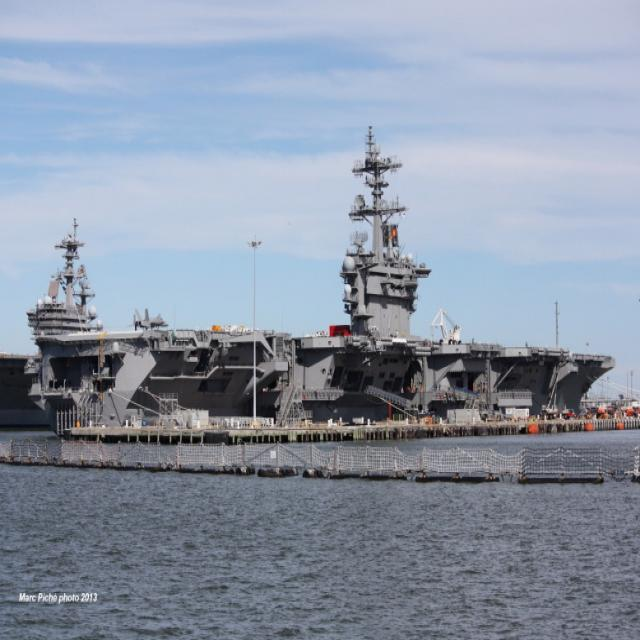Portanaves: (25, 138, 628, 447)
